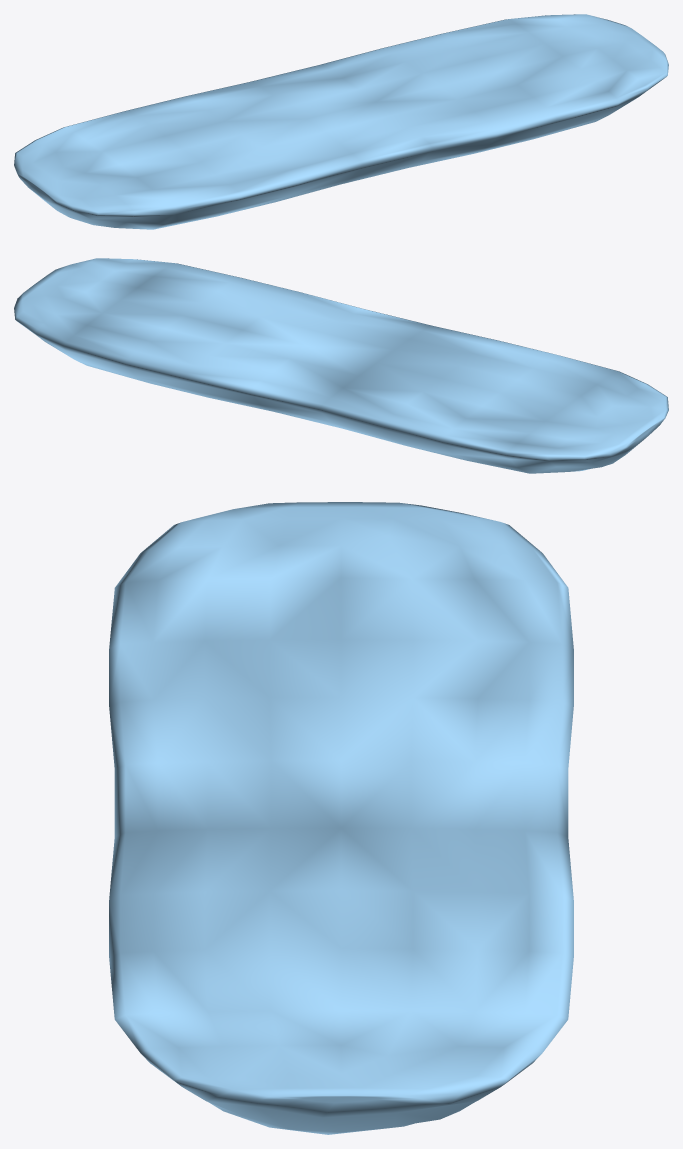
File: p_mesh_oreprospector_watertank_waterblendshape.fbx
The picture shows the model from 3 angles, top to bottom: view 1: azimuth 30°, elevation 25°; view 2: azimuth 150°, elevation 25°; view 3: azimuth 270°, elevation 25°; orthographic projection. The views are drawn at different scales.
Visible parts, largest first — view 1: obj_interactive_oreprospector_fillingup; view 2: obj_interactive_oreprospector_fillingup; view 3: obj_interactive_oreprospector_fillingup.
Part boxes in pixels (x1,y1,x2,y2): obj_interactive_oreprospector_fillingup: (14, 14, 668, 229); obj_interactive_oreprospector_fillingup: (14, 258, 668, 473); obj_interactive_oreprospector_fillingup: (109, 502, 573, 1134).
Size of the model in its own units: 8.62 by 0.6701 by 2.85.
